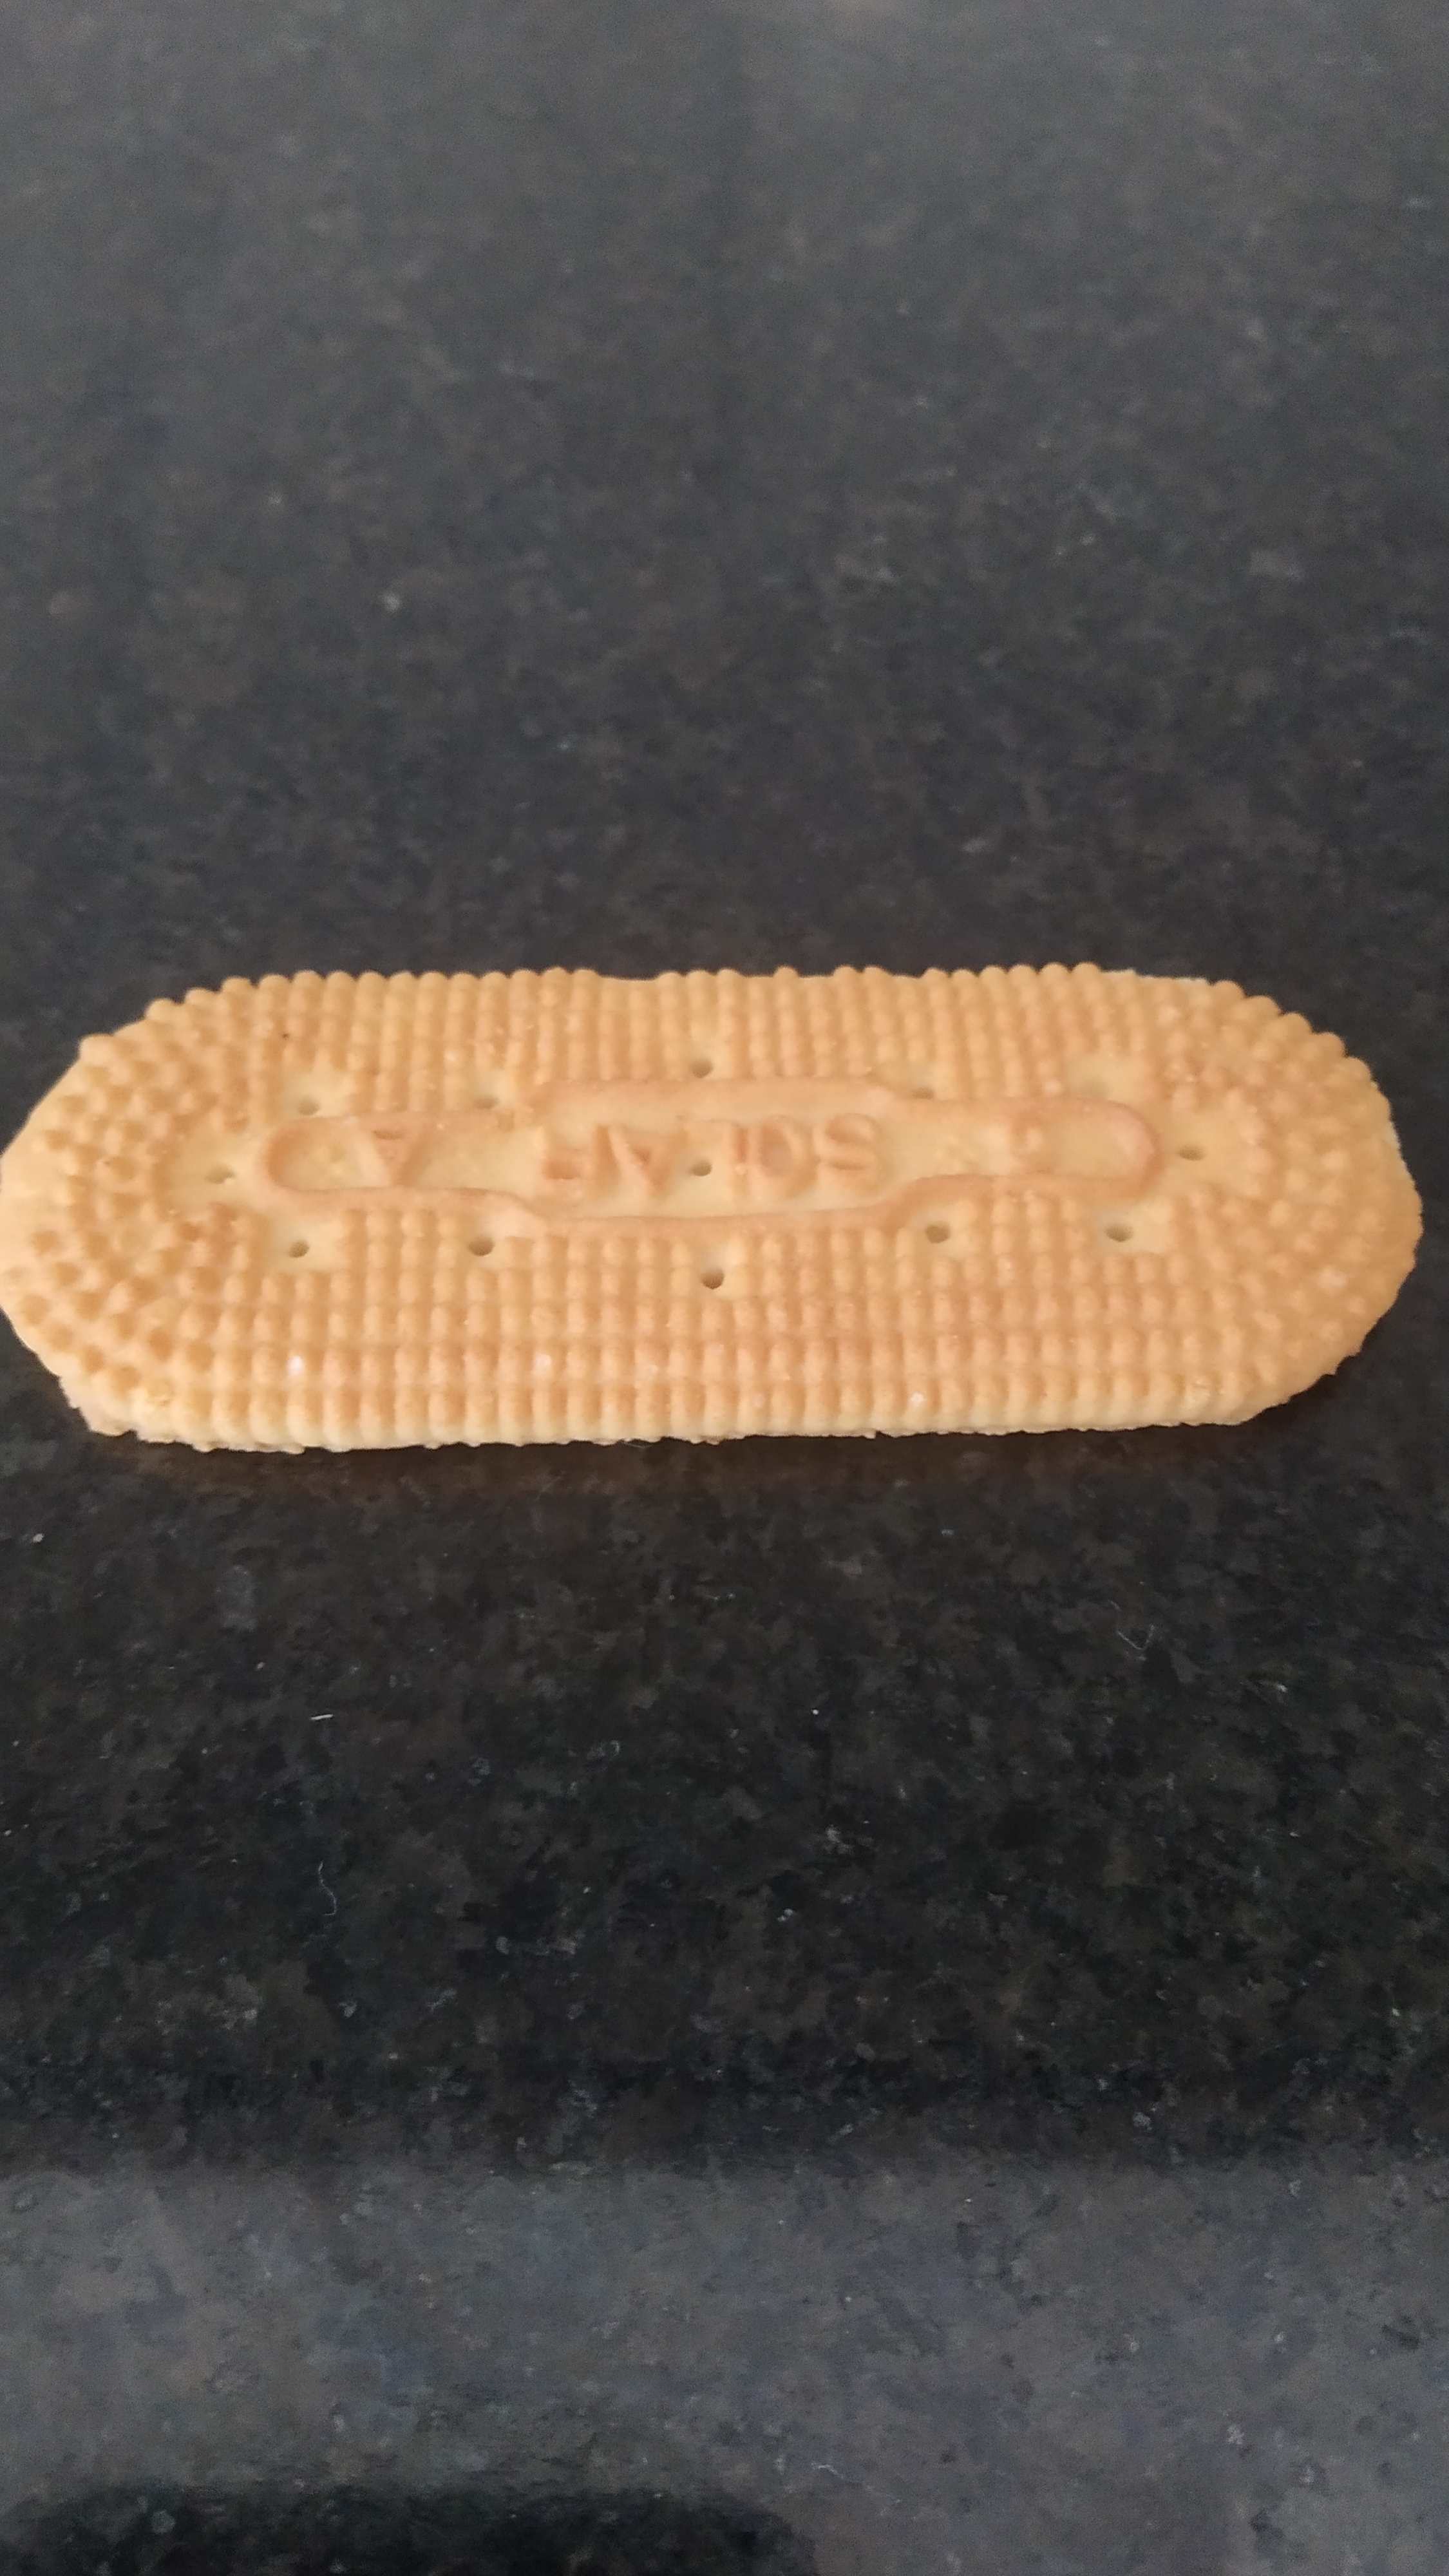solar: (0, 964, 1426, 1453)
